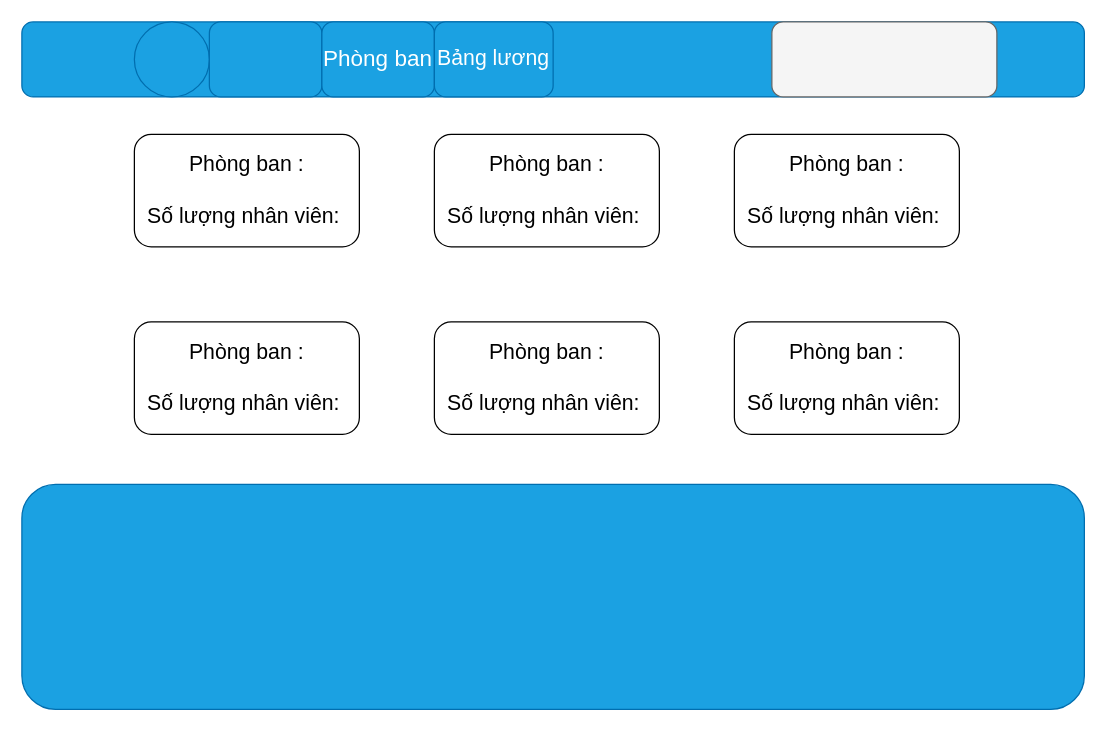
This 1106x731 diagram has some shape labels left out. The centre of each missing label's shape, as x and y in pixels:
Footer: point (552, 596)
Logo: point (171, 59)
Nhân viên: point (265, 59)
Search...: point (884, 59)
